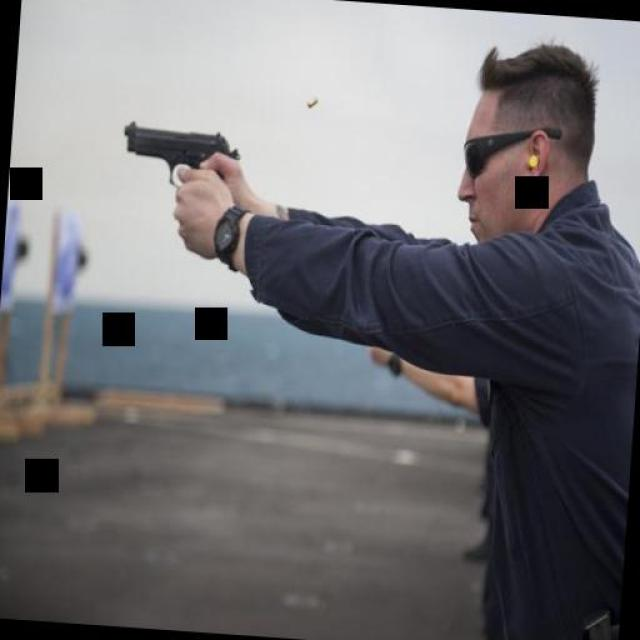gun: (118, 116, 242, 196)
